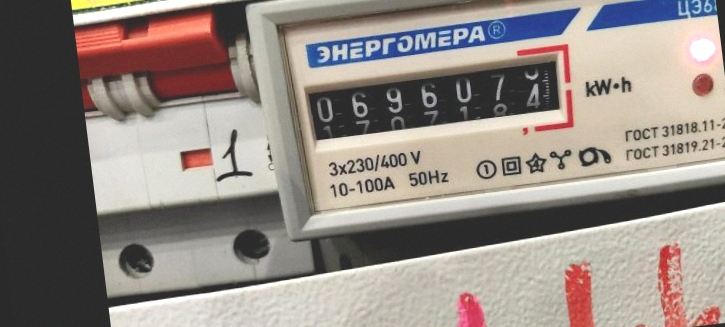0: (312, 91, 336, 124), (452, 71, 474, 104)
4: (520, 79, 542, 109)
6: (346, 86, 371, 119), (417, 78, 439, 108)
7: (487, 68, 507, 100)
9: (383, 83, 404, 114)
screen: (285, 35, 579, 159)
